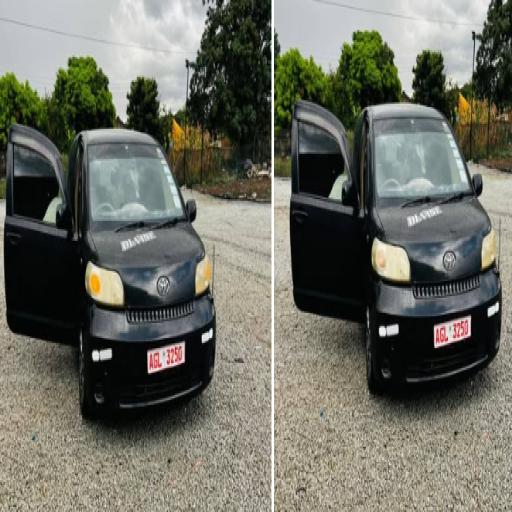number-plates: (146, 343, 187, 370)
